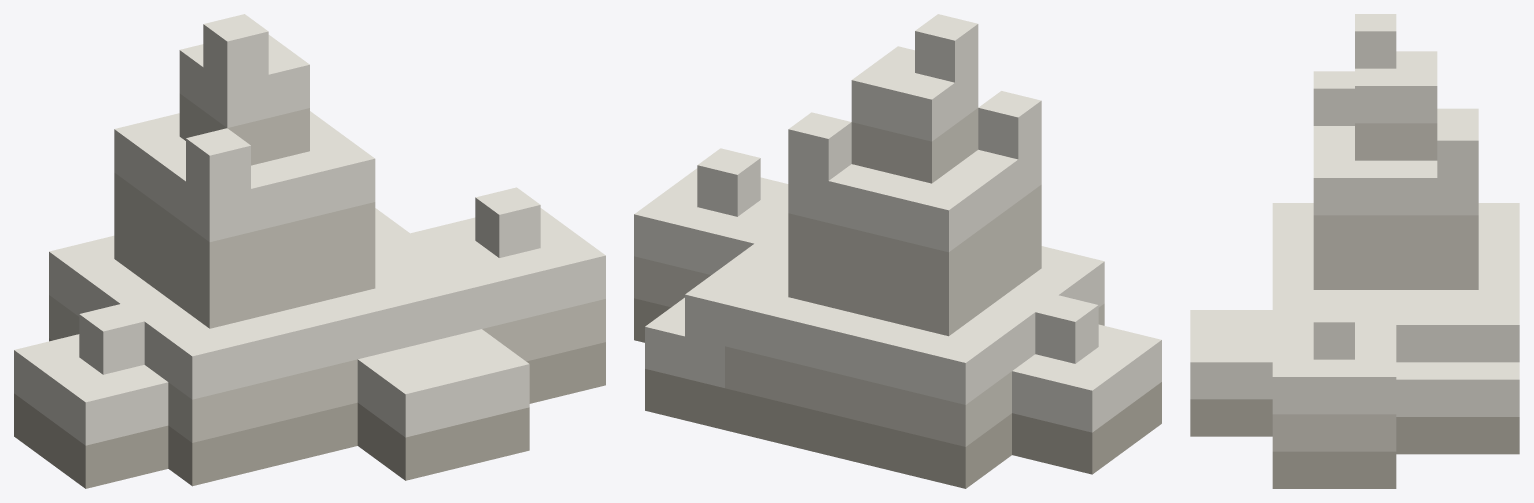
The model's file is Spark_Powder.fbx.
The picture shows the model from 3 angles, left to right: view 1: azimuth 30°, elevation 25°; view 2: azimuth 150°, elevation 25°; view 3: azimuth 270°, elevation 25°; orthographic projection. The views are drawn at different scales.
Visible parts, largest first — view 1: Spark_Powder; view 2: Spark_Powder; view 3: Spark_Powder.
Boxes of the visible parts, left/top/right/bottom form: Spark_Powder: left=14, top=14, right=605, bottom=488; Spark_Powder: left=634, top=14, right=1161, bottom=488; Spark_Powder: left=1190, top=14, right=1519, bottom=488.
Bounding box in the file's own units: 0.32 × 0.24 × 0.2133.
Materials: 1 (1 with a texture image).
